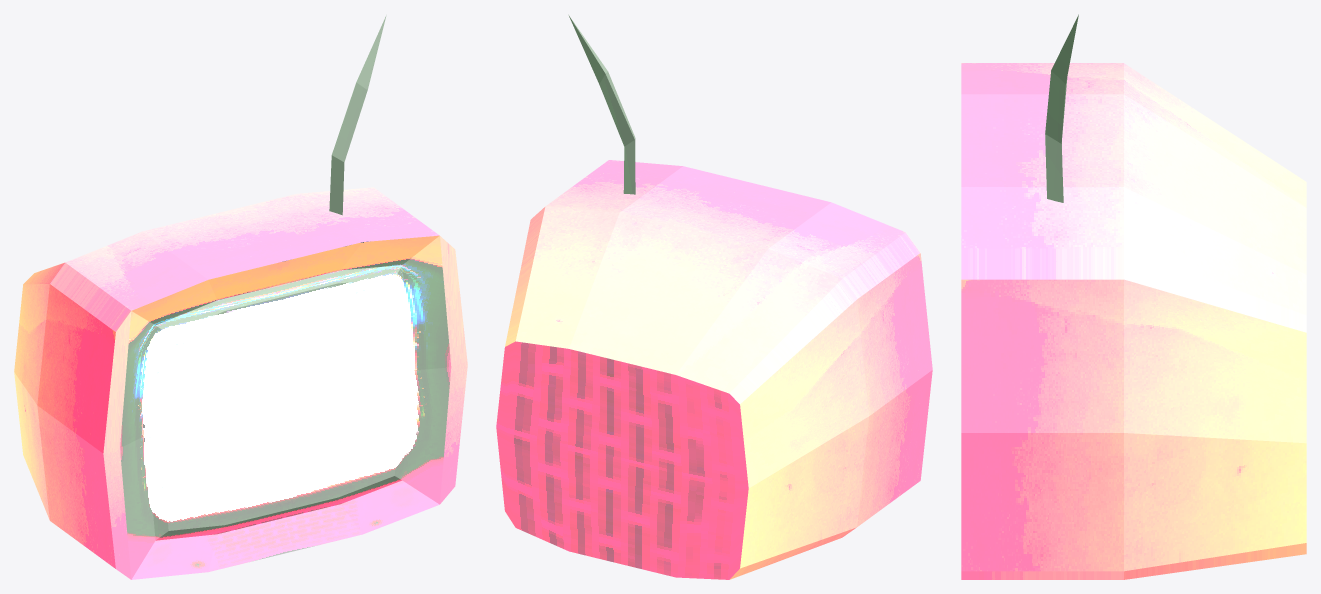
The model's file is urn_tv.glb.
The picture shows the model from 3 angles, left to right: view 1: azimuth 30°, elevation 25°; view 2: azimuth 150°, elevation 25°; view 3: azimuth 270°, elevation 25°; orthographic projection. The views are drawn at different scales.
Parts seen in each view (by area): view 1: urn_tv; view 2: urn_tv; view 3: urn_tv.
Part boxes in pixels (<box>): urn_tv: <box>14,15,467,579</box>; urn_tv: <box>496,15,932,579</box>; urn_tv: <box>961,14,1306,579</box>.
Size of the model in its own units: 1.42 by 1.74 by 0.9449.
